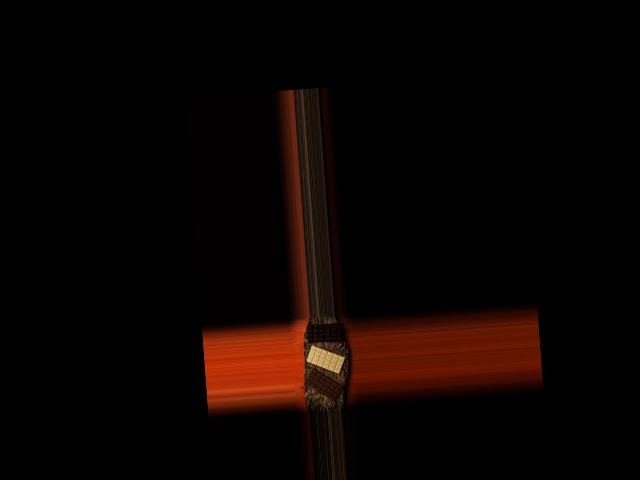chocolate: (306, 321, 344, 343)
